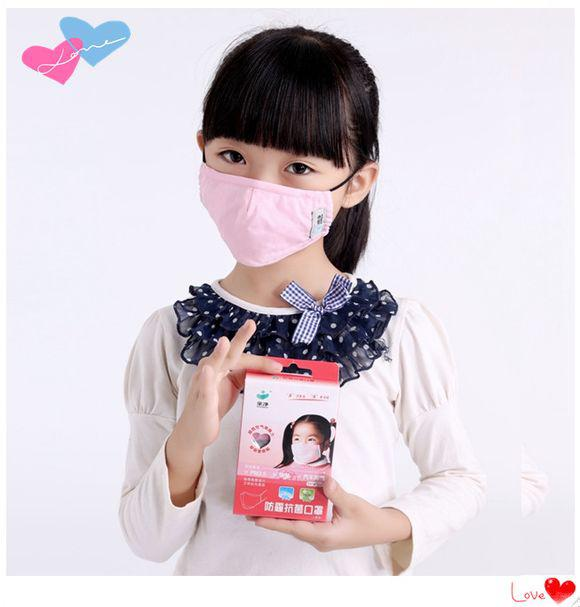OK: (201, 106, 354, 259)
